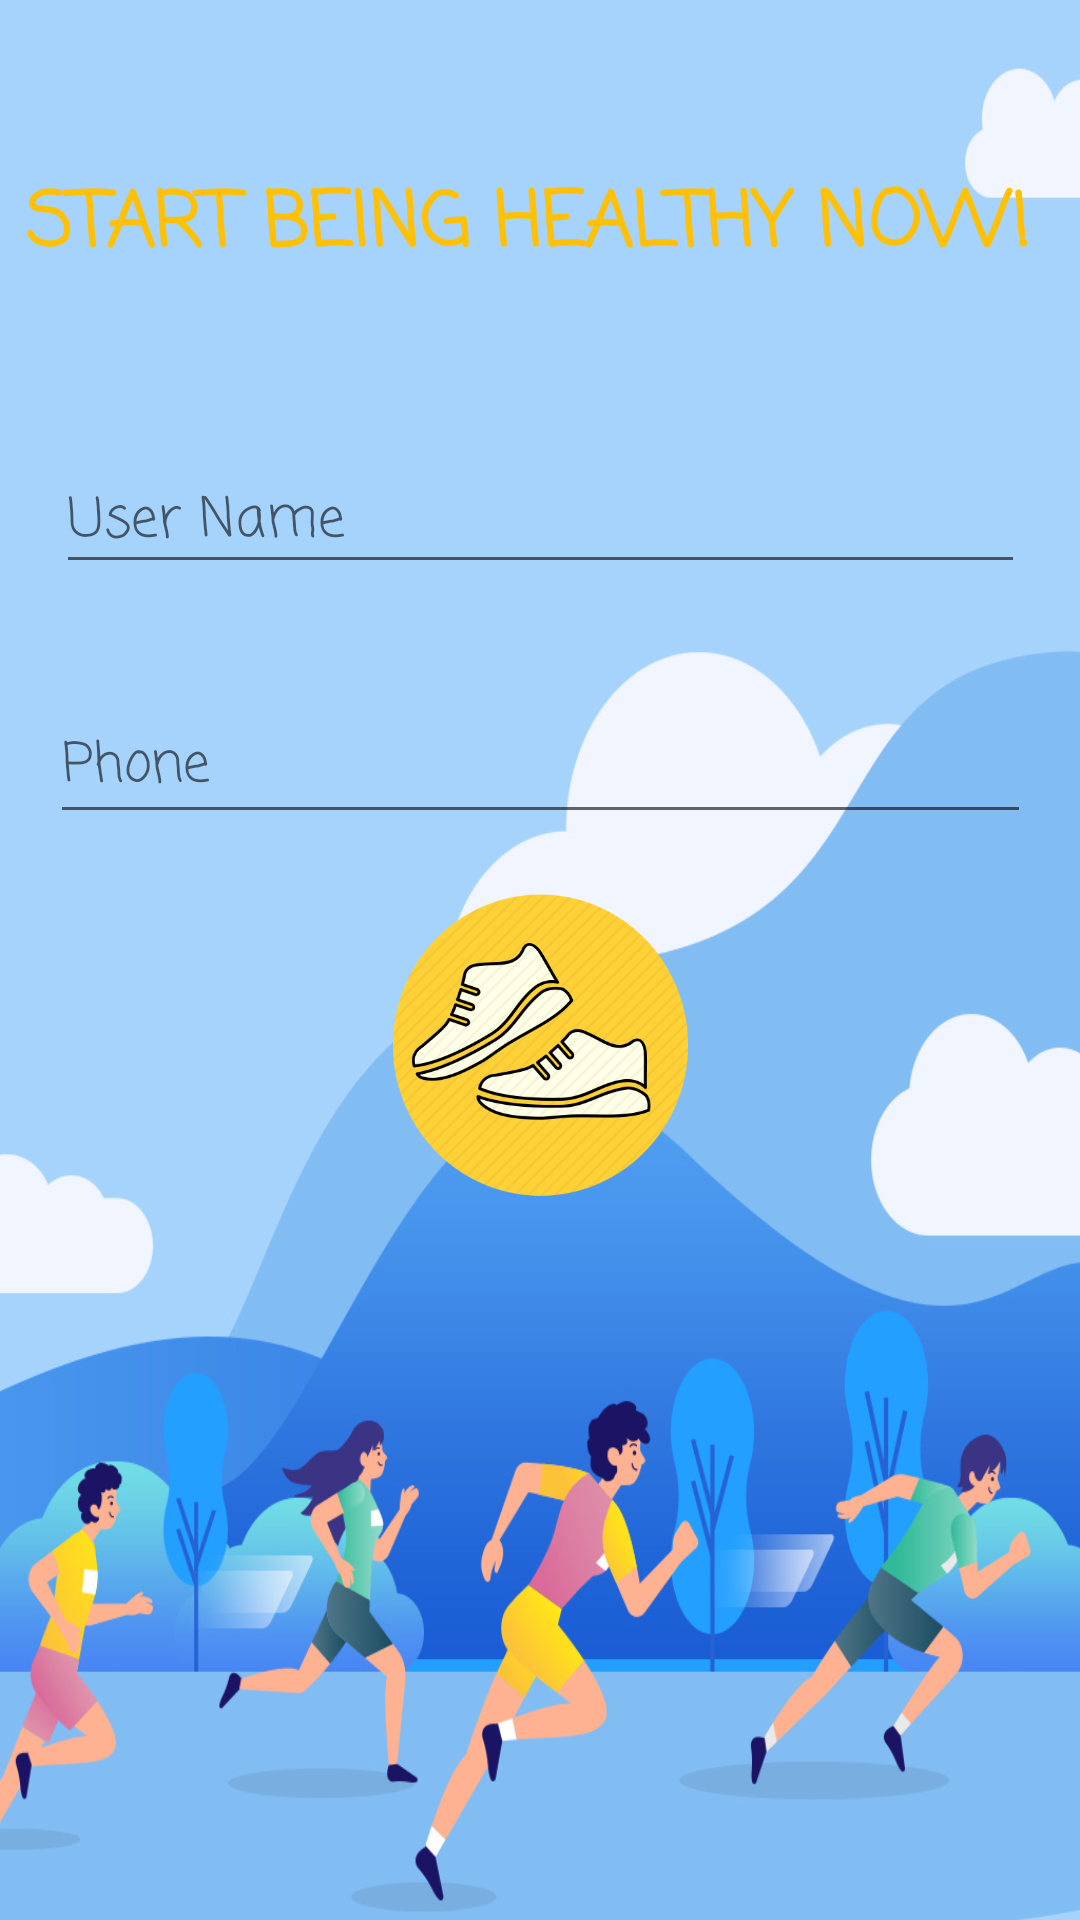

Screen size 1080x1920. Icon name, then its center in pixels as (x,y):
run: (540,1045)
